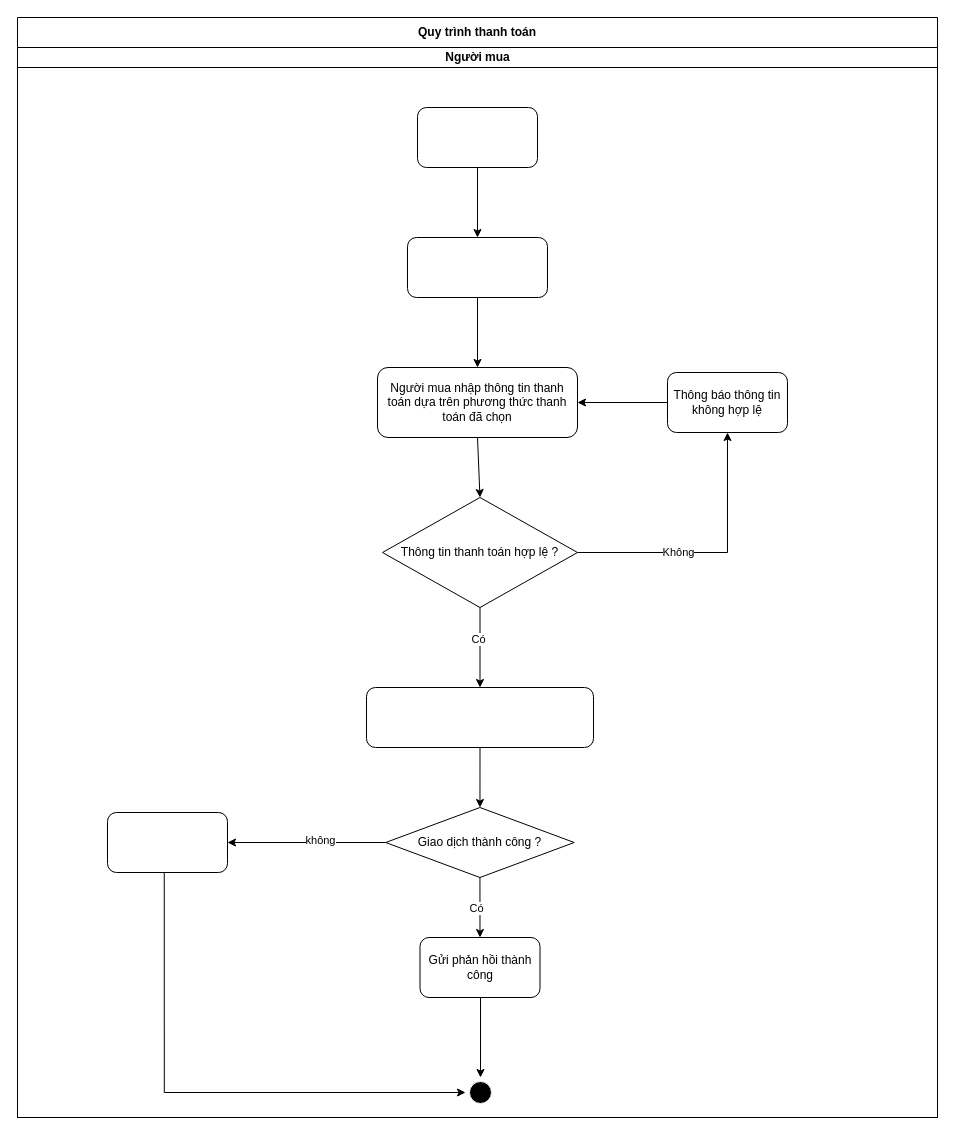
Image size: 955x1135. Some labels were removed from this diagram. Each missing label, with the centre of its shape:
Gửi thông báo giao dịch không thành công: the point at 167,842
Người mua bắt đầu thanh toán: the point at 477,137
Người mua lựa chọn phương thức thanh toán: the point at 477,267
Stripe thực hiện bước Xử lý Giao dịch: the point at 480,717
